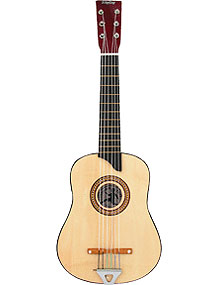guitar: (58, 1, 163, 285)
